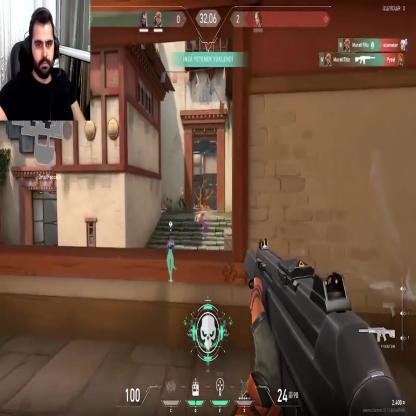enemy: (178, 187, 188, 209)
enemy_head: (180, 188, 182, 192)
